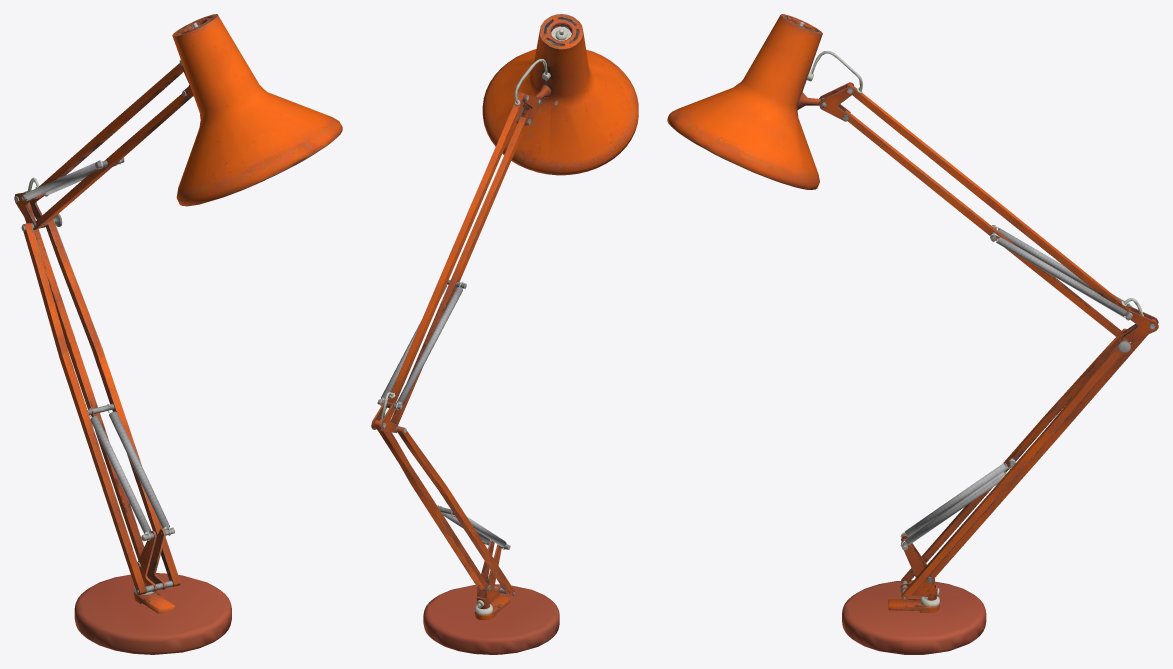
The model's file is desklamp.glb.
3 renders of one model, left to right at view 1: azimuth 30°, elevation 25°; view 2: azimuth 150°, elevation 25°; view 3: azimuth 270°, elevation 25°, orthographic. The views are drawn at different scales.
Parts seen in each view (by area): view 1: lamp; view 2: lamp; view 3: lamp.
Part boxes in pixels (x1,y1,x2,y2): lamp: (14, 14, 342, 654); lamp: (371, 14, 638, 654); lamp: (667, 14, 1158, 654).
Bounding box in the file's own units: 0.2084 × 0.8316 × 0.6135.
Materials: 2 (2 with a texture image).
